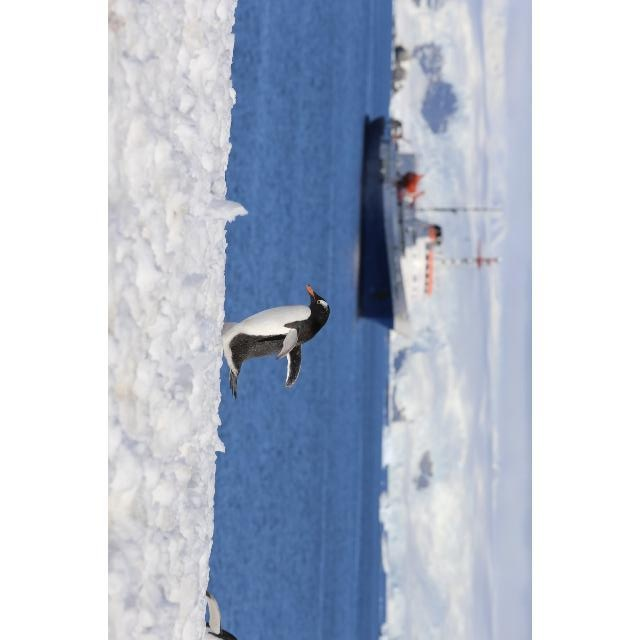penguin: (217, 285, 331, 398)
